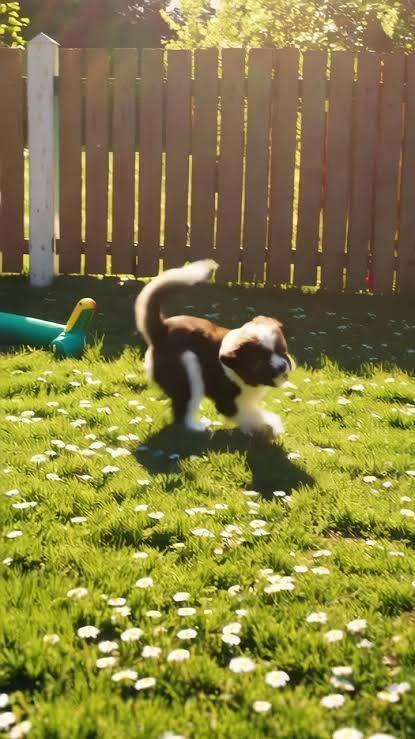puppy-dog: (131, 257, 296, 443)
